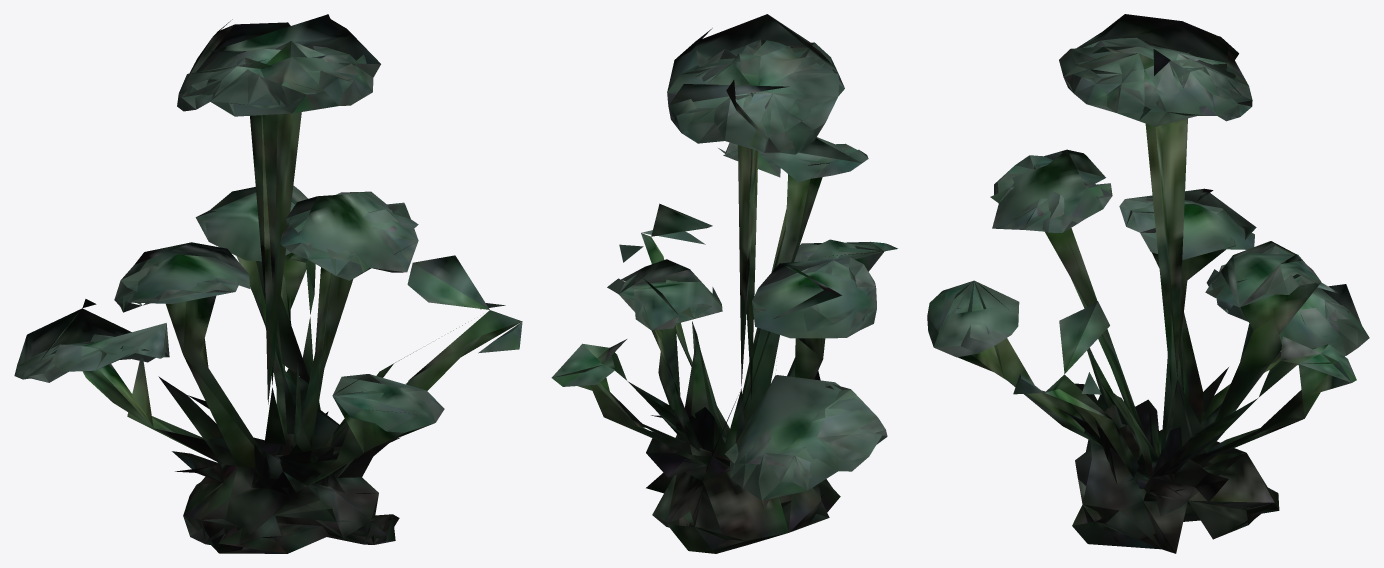
File: alien_fungus_1965305598_lod0m.glb
The picture shows the model from 3 angles, left to right: view 1: azimuth 30°, elevation 25°; view 2: azimuth 150°, elevation 25°; view 3: azimuth 270°, elevation 25°; orthographic projection. The views are drawn at different scales.
Size of the model in its own units: 1.83 by 2.37 by 1.94.
1 material, 1 textured.
